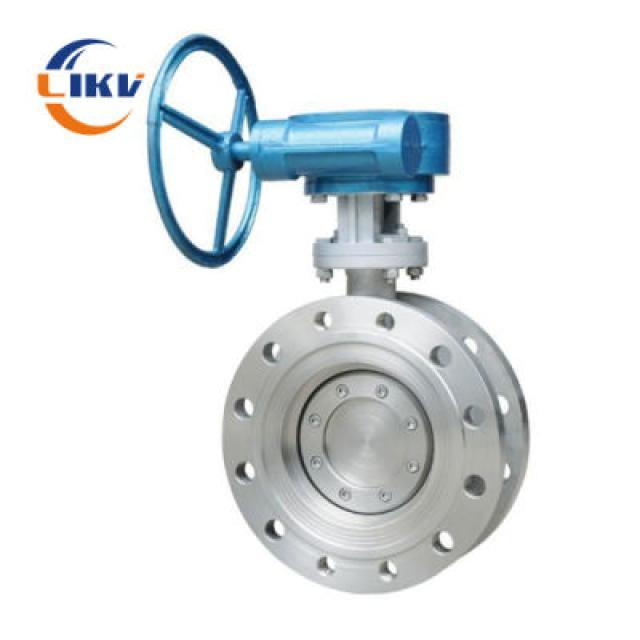Wheel Handle Valve Threaded: (142, 25, 271, 284)
